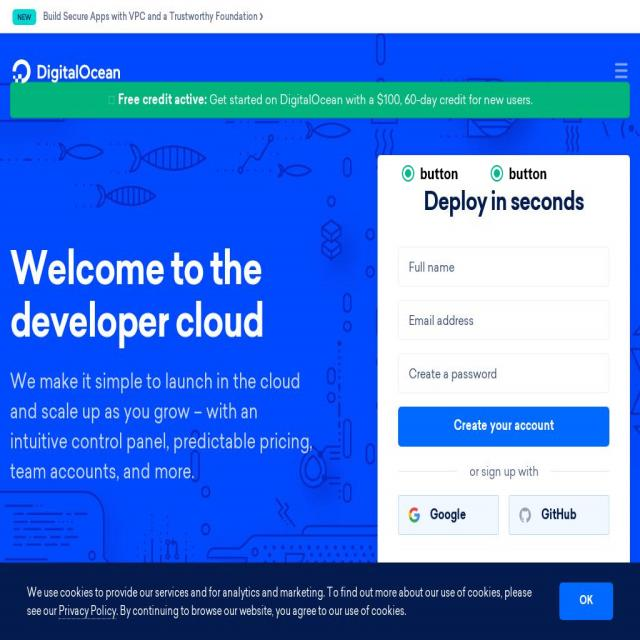radio: (401, 164, 415, 182), (490, 163, 504, 181)
